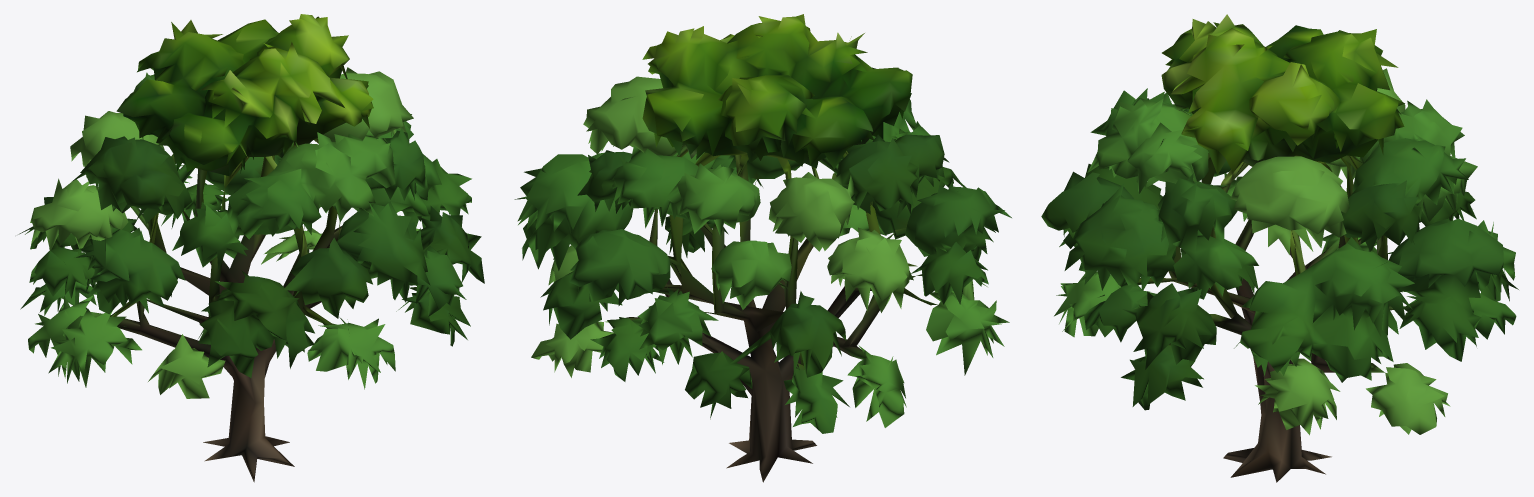
The model's file is folhosa.glb.
The picture shows the model from 3 angles, left to right: view 1: azimuth 30°, elevation 25°; view 2: azimuth 150°, elevation 25°; view 3: azimuth 270°, elevation 25°; orthographic projection. The views are drawn at different scales.
Bounding box in the file's own units: 1.09 × 1 × 0.9883.
